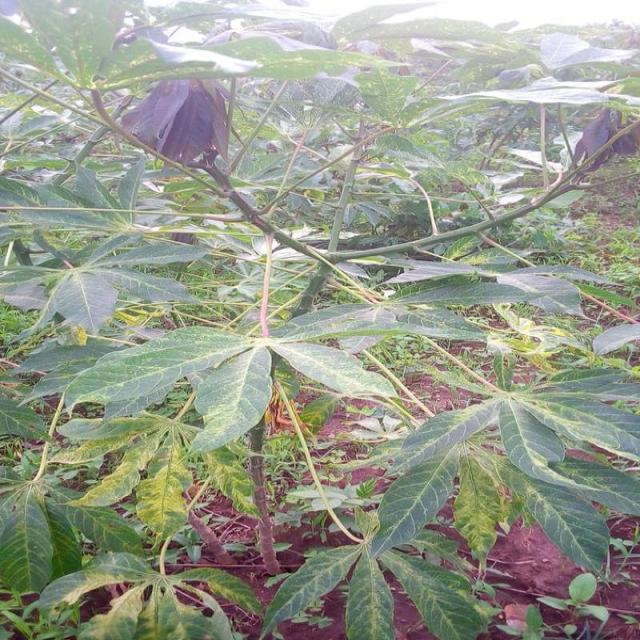cassava leaf: (2, 2, 640, 638), (189, 342, 274, 456)
